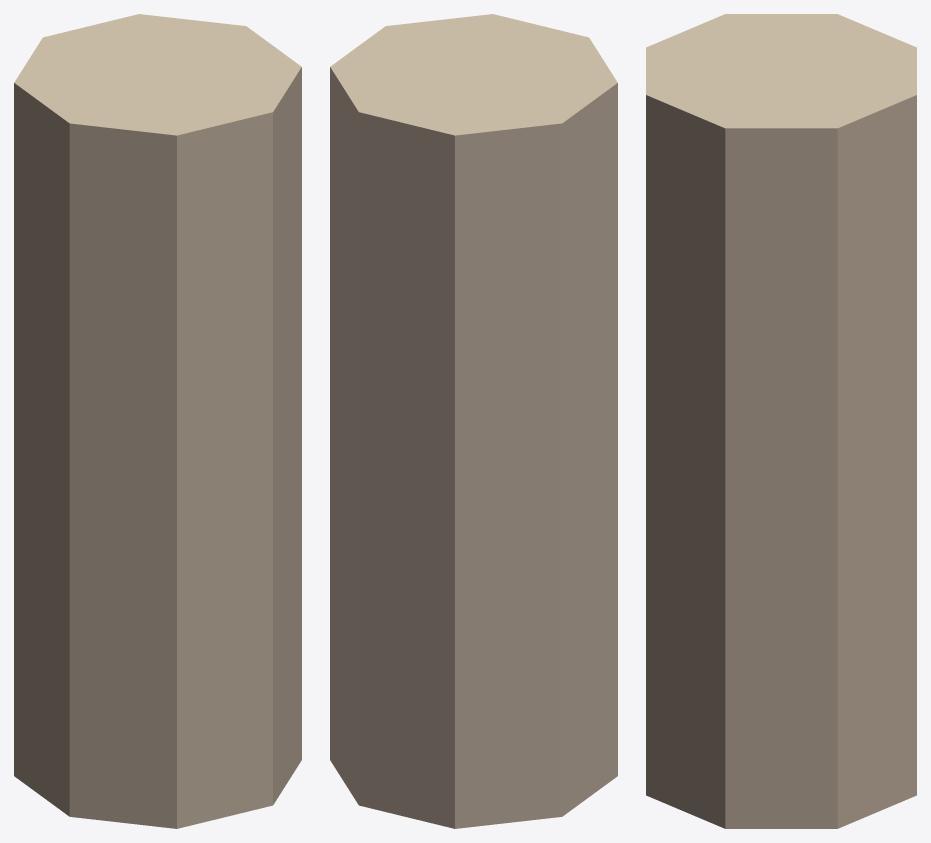
The model's file is Prop_Bridge_Log_Post_Top.glb.
The picture shows the model from 3 angles, left to right: view 1: azimuth 30°, elevation 25°; view 2: azimuth 150°, elevation 25°; view 3: azimuth 270°, elevation 25°; orthographic projection.
Parts seen in each view (by area): view 1: object1; view 2: object1; view 3: object1.
Part boxes in pixels (x1,y1,x2,y2): object1: [14, 14, 301, 828]; object1: [330, 14, 617, 828]; object1: [646, 14, 916, 828].
Size of the model in its own units: 0.2 by 0.5707 by 0.2.
